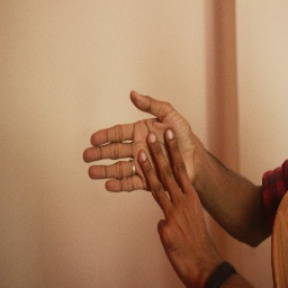M: (81, 87, 208, 224)
